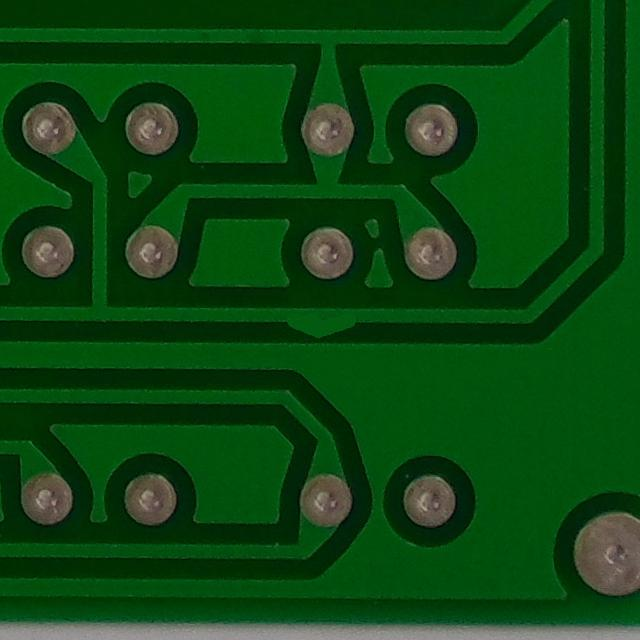spur: (279, 295, 361, 346)
